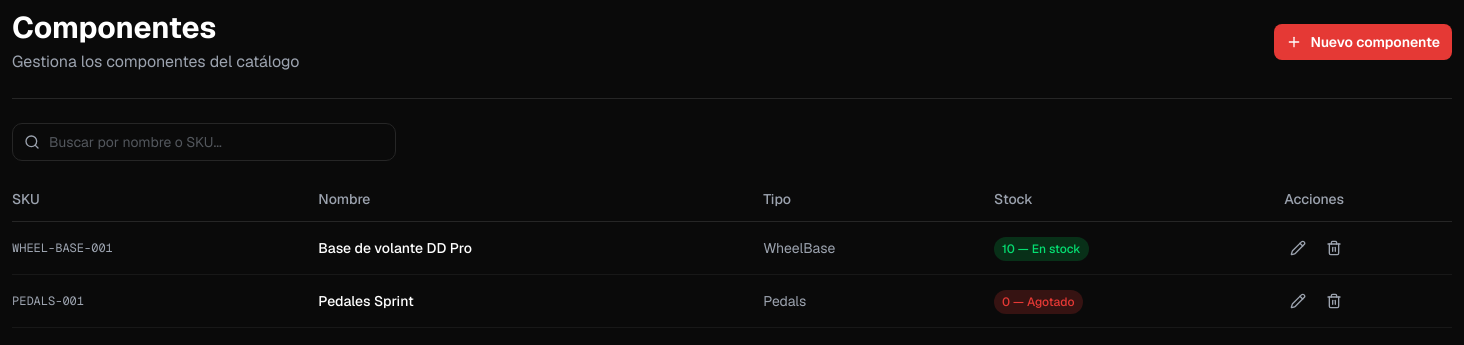
Scenario: ComponentsContent › eliminar › al hacer clic en eliminar muestra confirmación inline
Expected: the text "Base de volante DD Pro" is shown, [318, 222, 763, 274]
What coordinates should you click on to do the following:
click the button titled "Eliminar" in the row of "WHEEL-BASE-001"
I would click on:
 (1334, 248)
Its box is [1320, 234, 1348, 262].
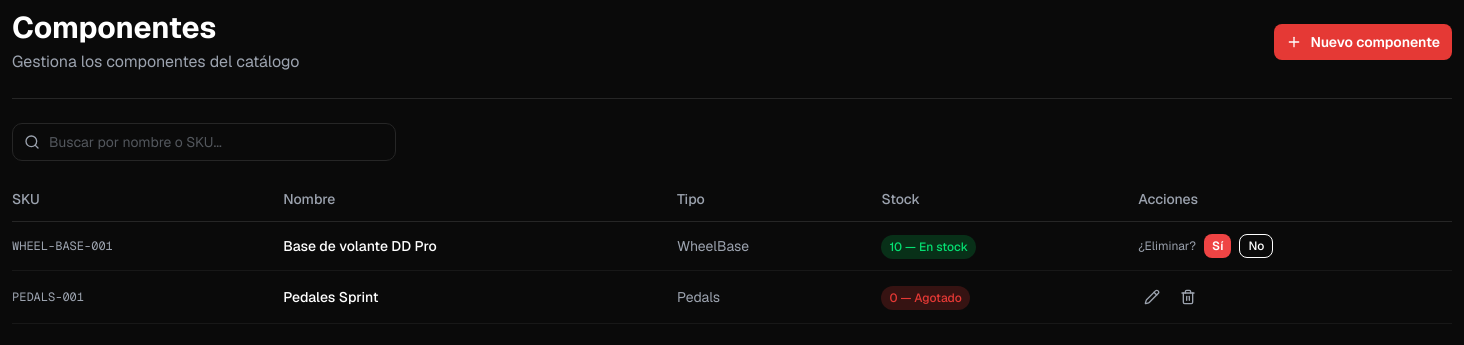
Expected: the text "¿Eliminar?" is shown, [1138, 238, 1196, 254]
